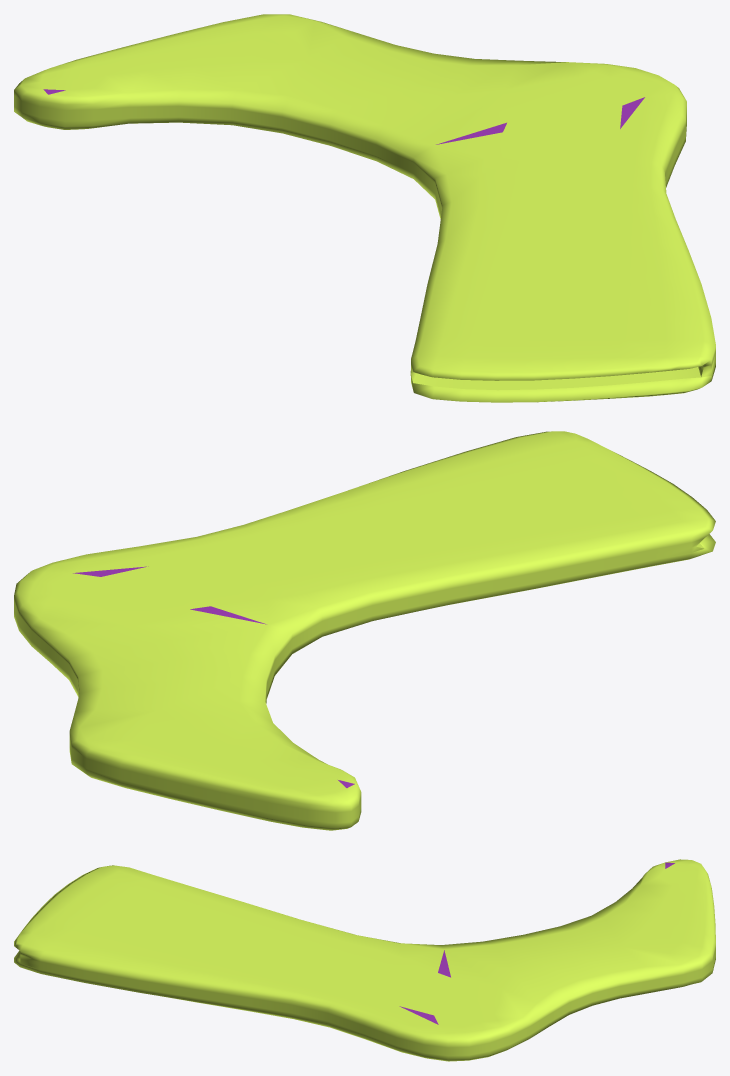
The picture shows the model from 3 angles, top to bottom: view 1: azimuth 30°, elevation 25°; view 2: azimuth 150°, elevation 25°; view 3: azimuth 270°, elevation 25°; orthographic projection. The views are drawn at different scales.
Parts seen in each view (by area): view 1: 000-0-0; view 2: 000-0-0; view 3: 000-0-0.
Part boxes in pixels (x1,y1,x2,y2): 000-0-0: [14, 14, 715, 402]; 000-0-0: [14, 431, 715, 830]; 000-0-0: [14, 859, 715, 1061].
Bounding box in the file's own units: 13.91 × 0.8664 × 22.59.
